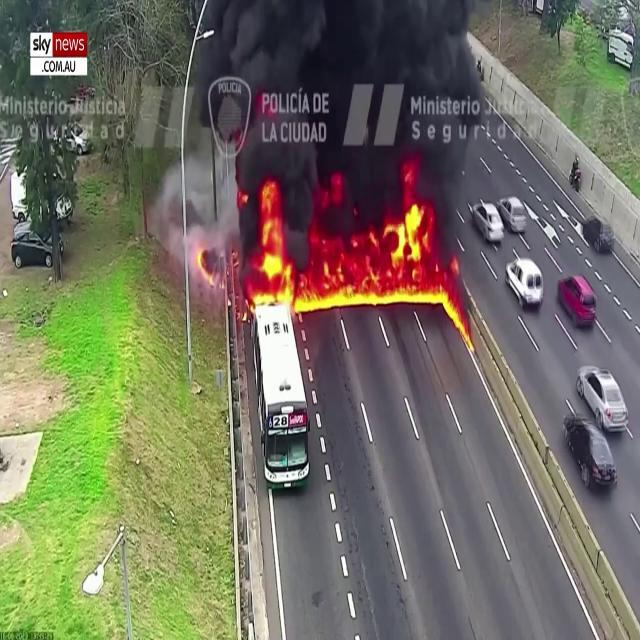Fire: (300, 191, 452, 307), (250, 177, 294, 303)
Smoke: (229, 0, 487, 240), (157, 138, 243, 292)
